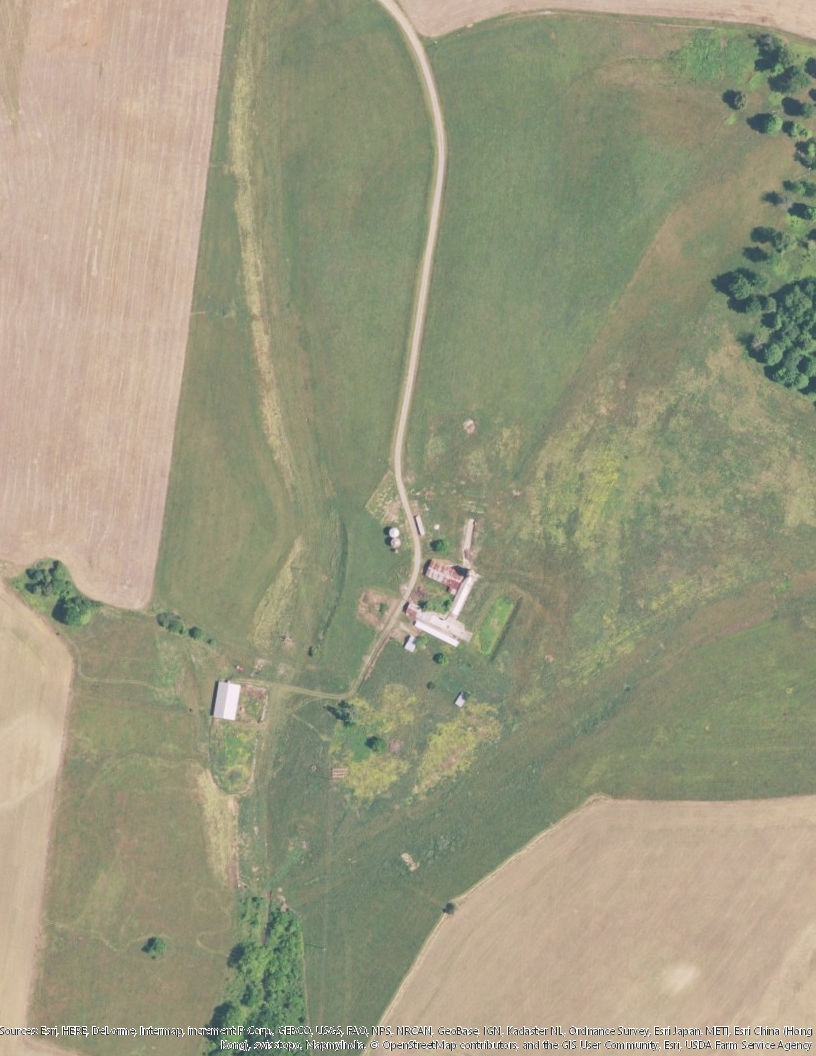cafo: (412, 605, 476, 650), (445, 572, 480, 622), (420, 557, 471, 591)
